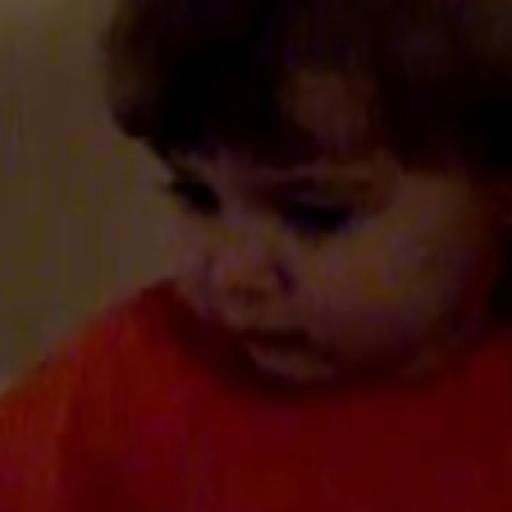Autism: (73, 0, 512, 443)
